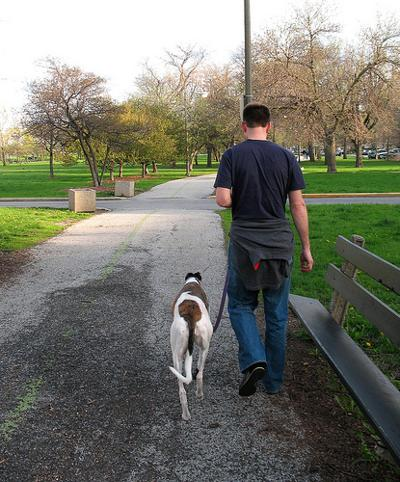person: (215, 105, 313, 396)
